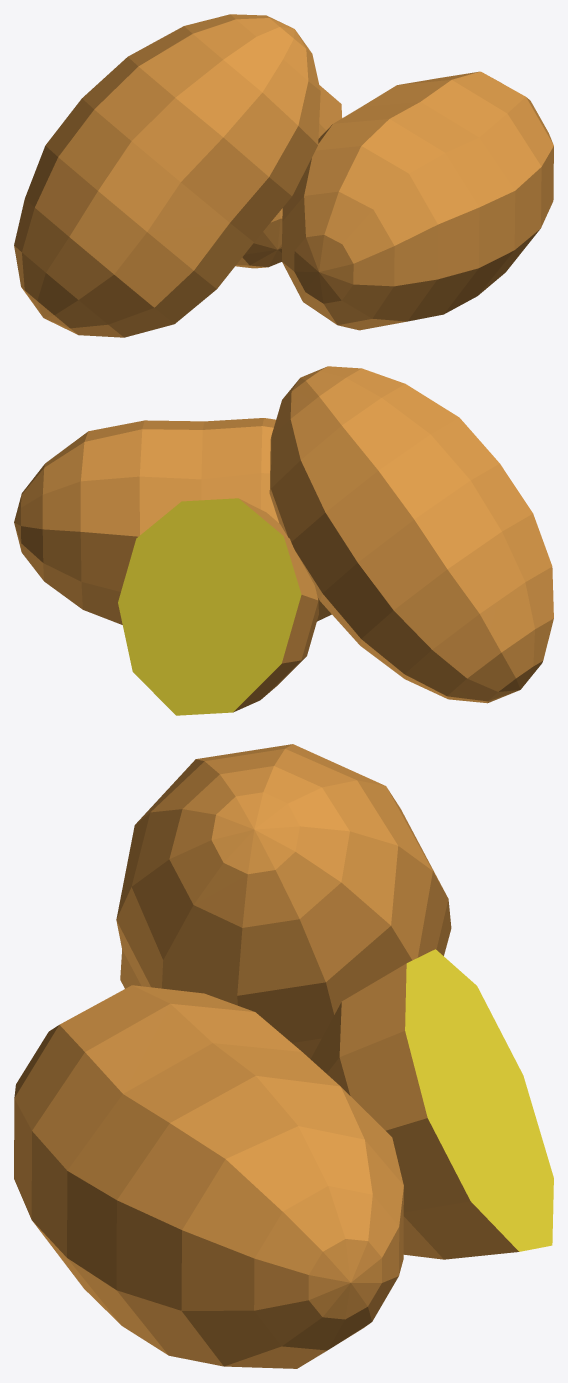
Rendered from potato.glb.
3 renders of one model, top to bottom at view 1: azimuth 30°, elevation 25°; view 2: azimuth 150°, elevation 25°; view 3: azimuth 270°, elevation 25°, orthographic. The views are drawn at different scales.
Visible parts, largest first — view 1: pSphere25; view 2: pSphere25; view 3: pSphere25.
Part boxes in pixels (x1=…): pSphere25: x1=14, y1=14, x2=553, y2=337; pSphere25: x1=14, y1=366, x2=553, y2=715; pSphere25: x1=14, y1=744, x2=553, y2=1368.
Bounding box in the file's own units: 4.5 × 2.59 × 2.77.
